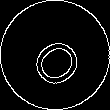O_NE: (22, 22, 88, 88)
